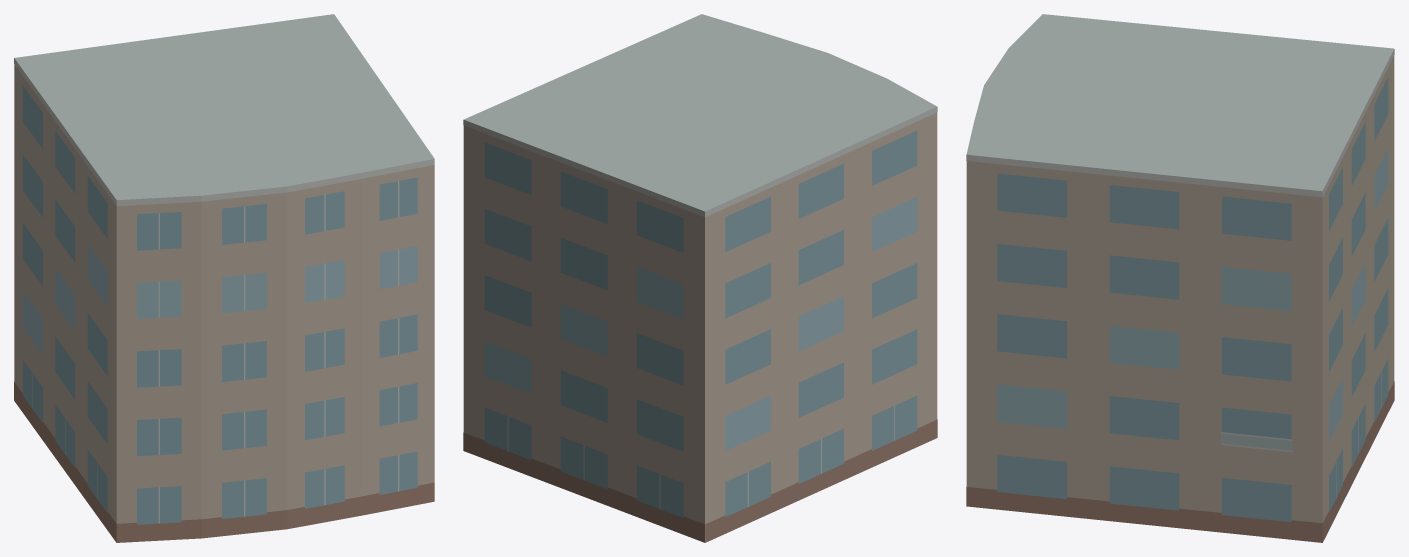
File: survey-upis-32862087.glb
The picture shows the model from 3 angles, left to right: view 1: azimuth 30°, elevation 25°; view 2: azimuth 150°, elevation 25°; view 3: azimuth 270°, elevation 25°; orthographic projection. The views are drawn at different scales.
Visible parts, largest first — view 1: survey-upis-32862087.tmp; view 2: survey-upis-32862087.tmp; view 3: survey-upis-32862087.tmp.
Part boxes in pixels (x1=…): survey-upis-32862087.tmp: x1=14, y1=14, x2=434, y2=542; survey-upis-32862087.tmp: x1=463, y1=14, x2=937, y2=542; survey-upis-32862087.tmp: x1=966, y1=14, x2=1394, y2=542.
Bounding box in the file's own units: 15.03 × 13.9 × 15.34.
